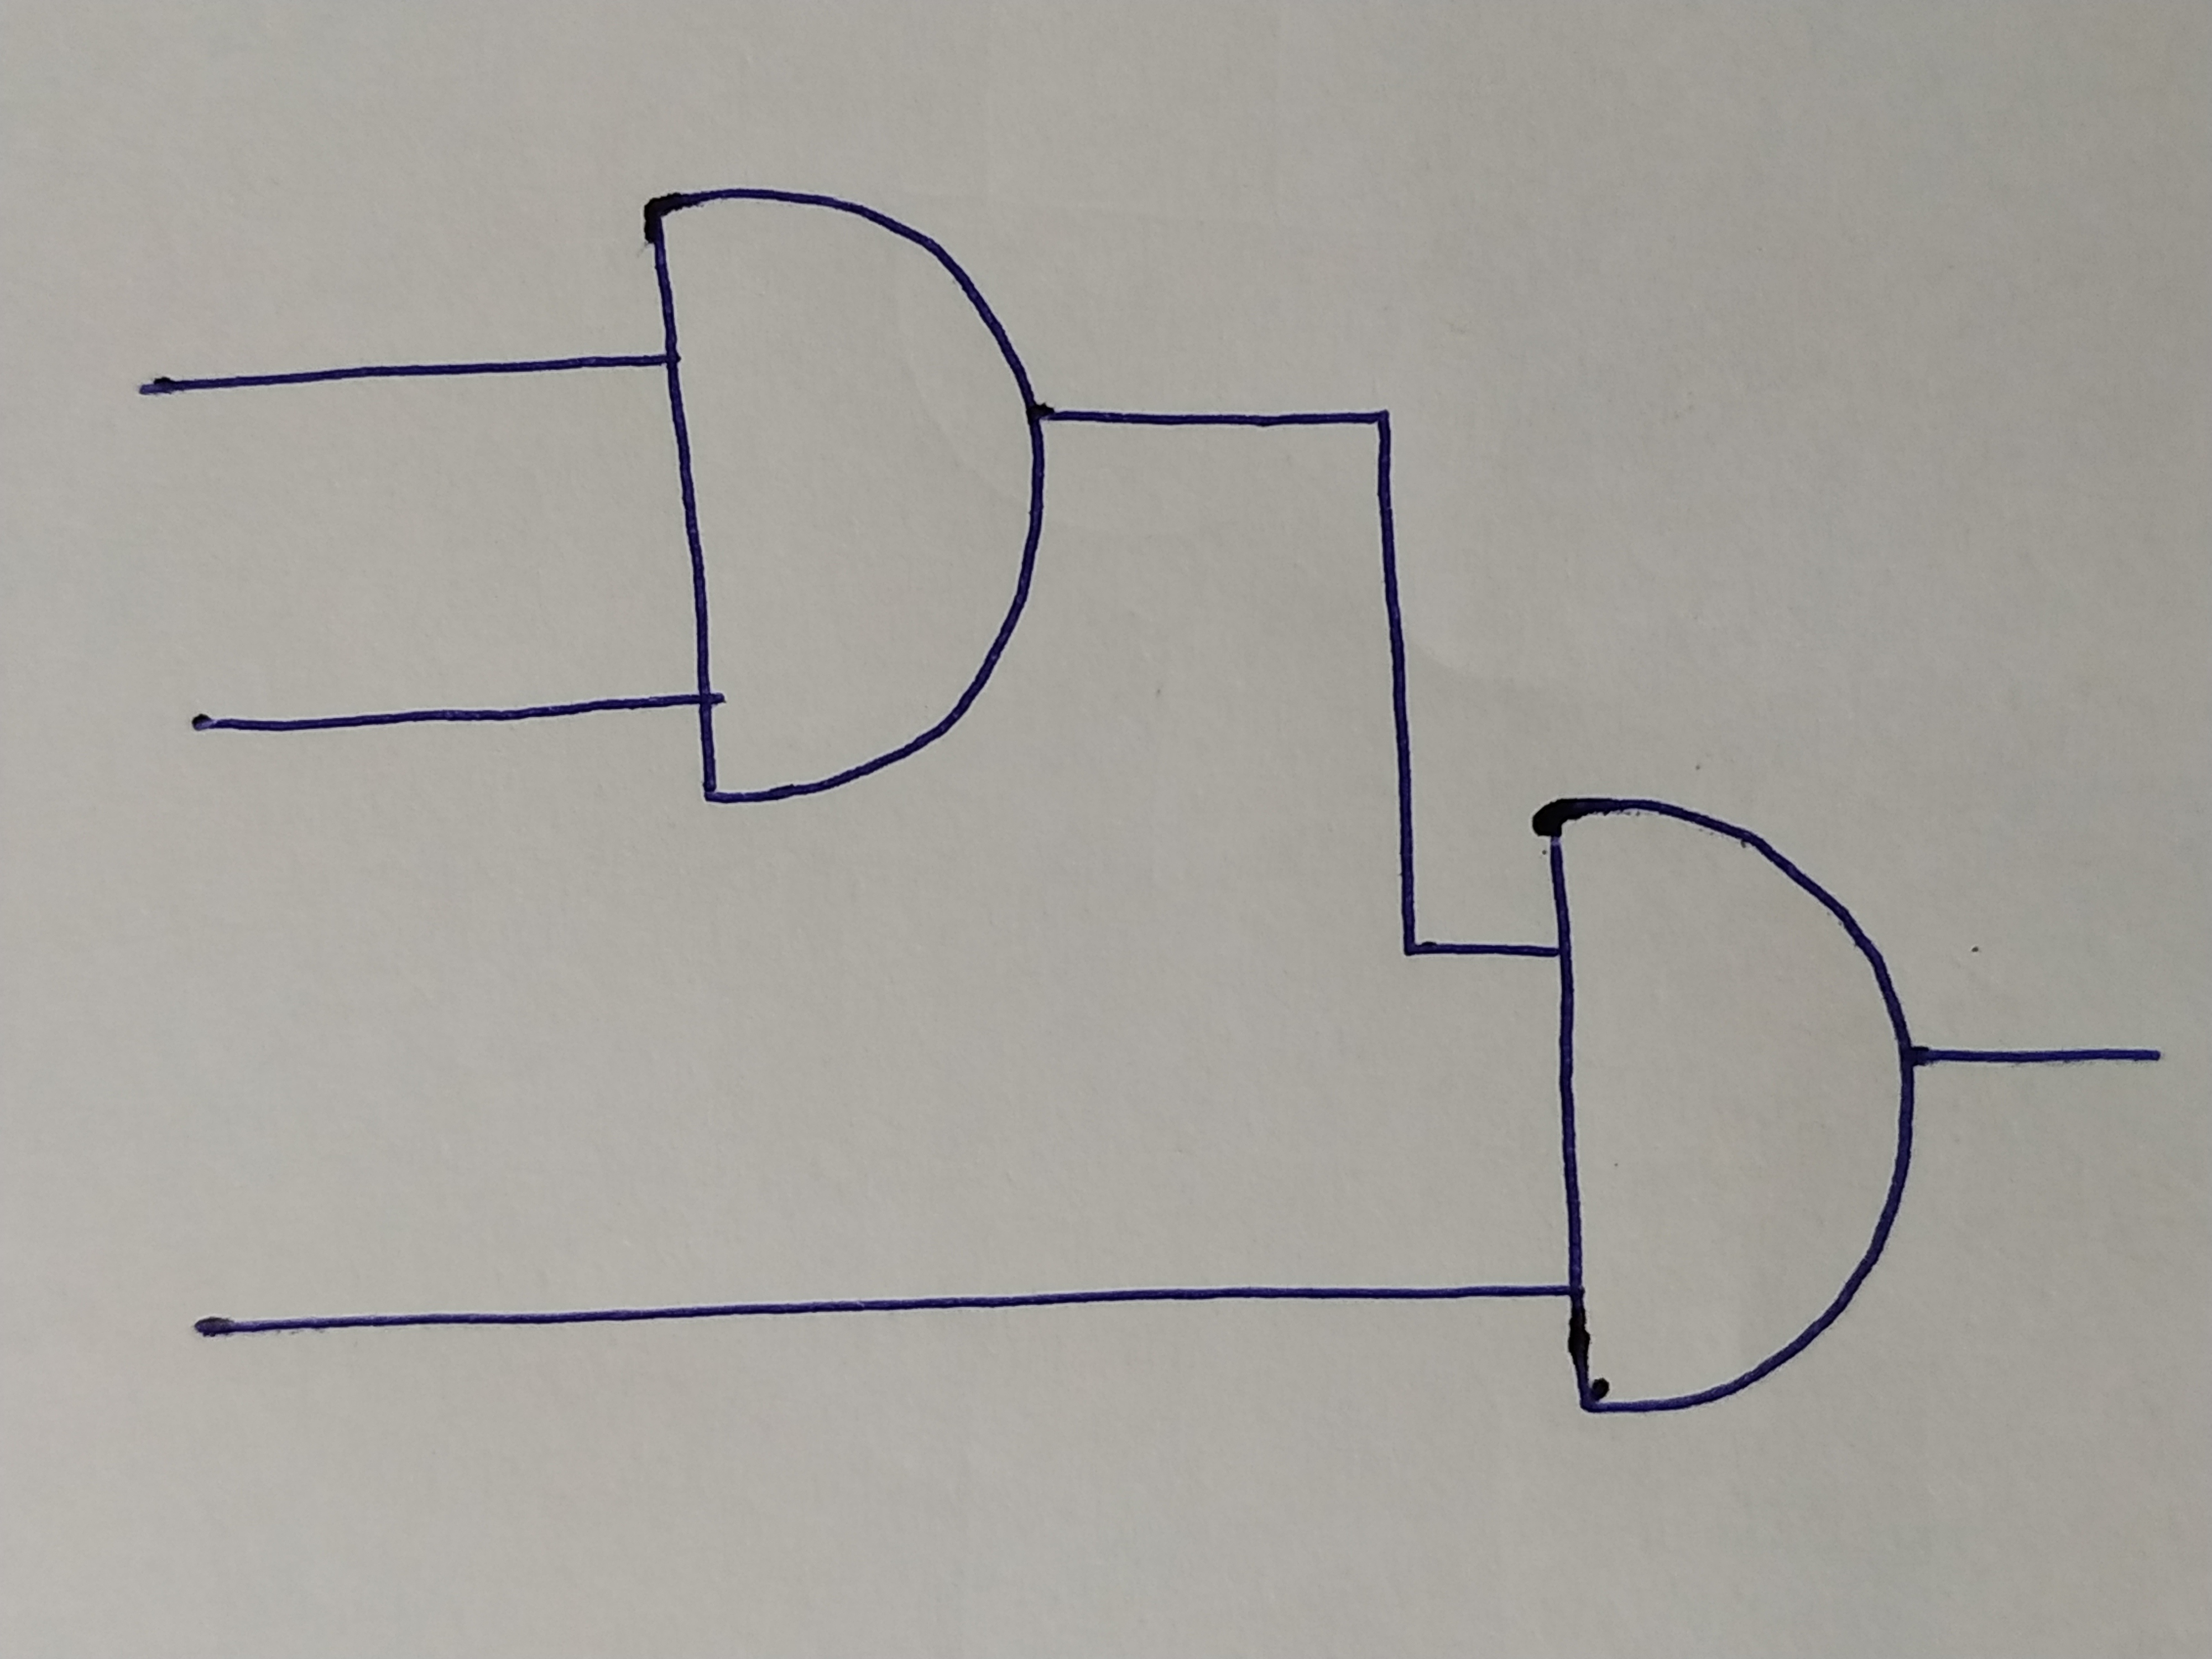and: (639, 186, 1061, 812), (1538, 800, 1912, 1422)
